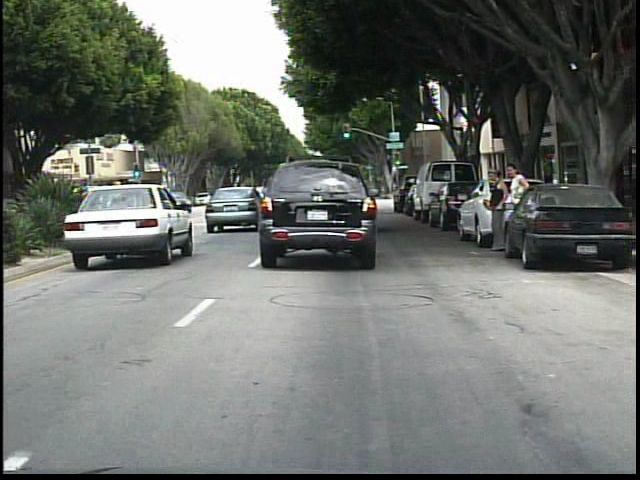person: (503, 158, 534, 251), (483, 168, 509, 259)
